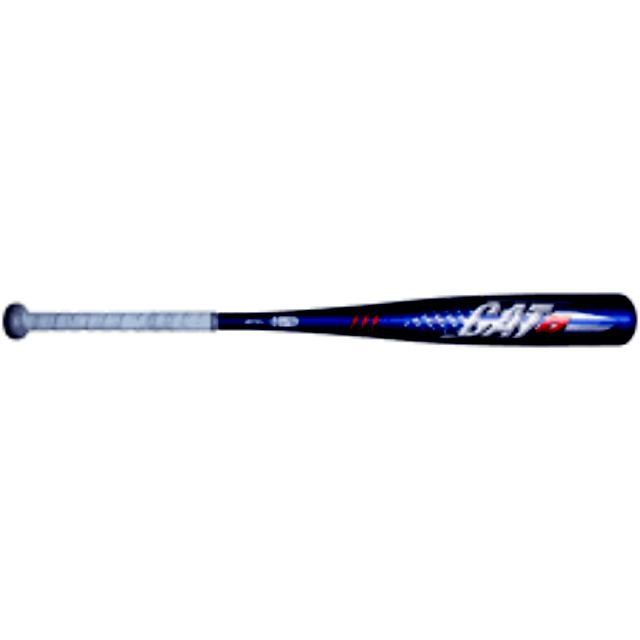baseball bat: (0, 290, 638, 344)
